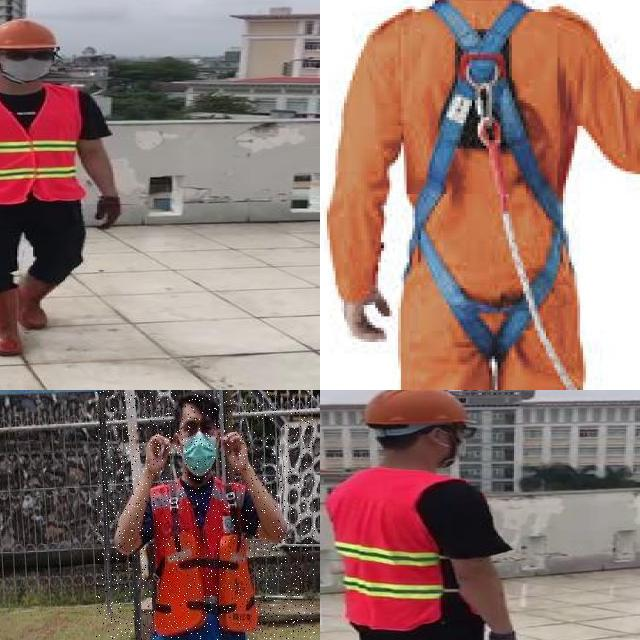Harness: (407, 0, 566, 362)
boots: (15, 276, 49, 328), (0, 288, 22, 356)
face_mask: (0, 46, 57, 83)
glasses: (0, 46, 60, 64)
hand_glove: (97, 197, 120, 232), (485, 630, 521, 640)
head_helmet: (355, 390, 478, 430), (0, 16, 62, 52)
person: (96, 391, 315, 640), (320, 390, 522, 640), (0, 10, 135, 365)
vest: (327, 463, 459, 633), (150, 479, 256, 640), (0, 86, 84, 202)
